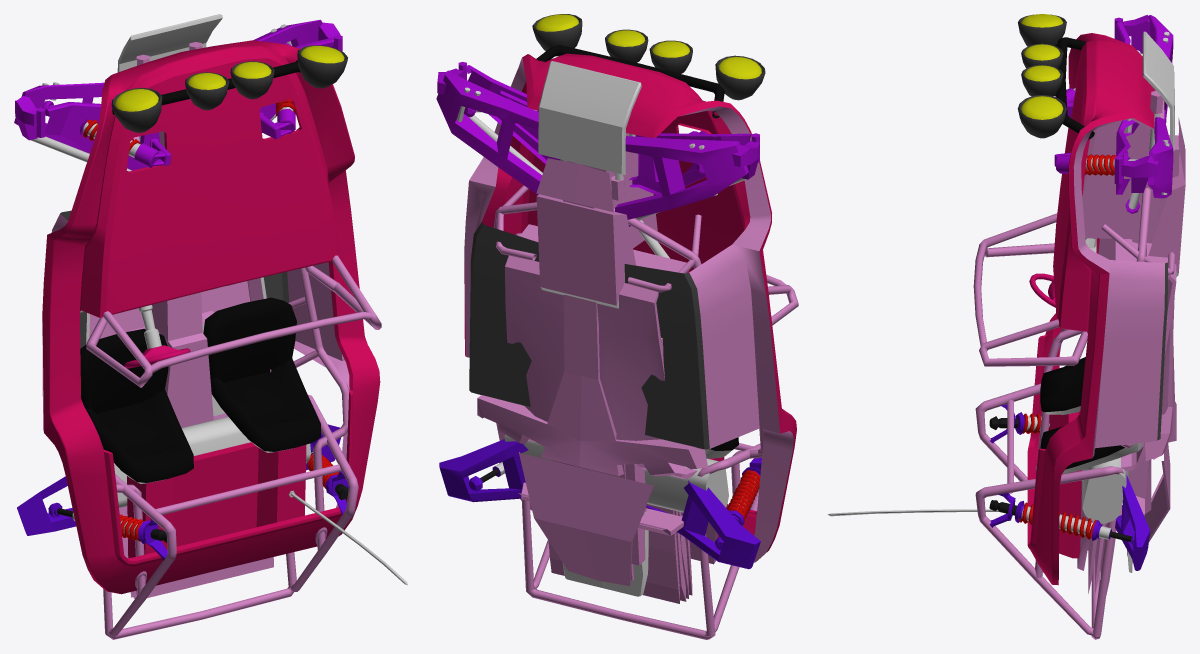
File: car.obj
3 renders of one model, left to right at view 1: azimuth 30°, elevation 25°; view 2: azimuth 150°, elevation 25°; view 3: azimuth 270°, elevation 25°, orthographic. The views are drawn at different scales.
Visible parts, largest first — view 1: body; view 2: body; view 3: body.
Boxes of the visible parts, bbox=[...] form: body: bbox=[14, 14, 407, 639]; body: bbox=[436, 14, 798, 639]; body: bbox=[827, 14, 1185, 639].
Size of the model in its own units: 2.09 by 3.52 by 2.08.
